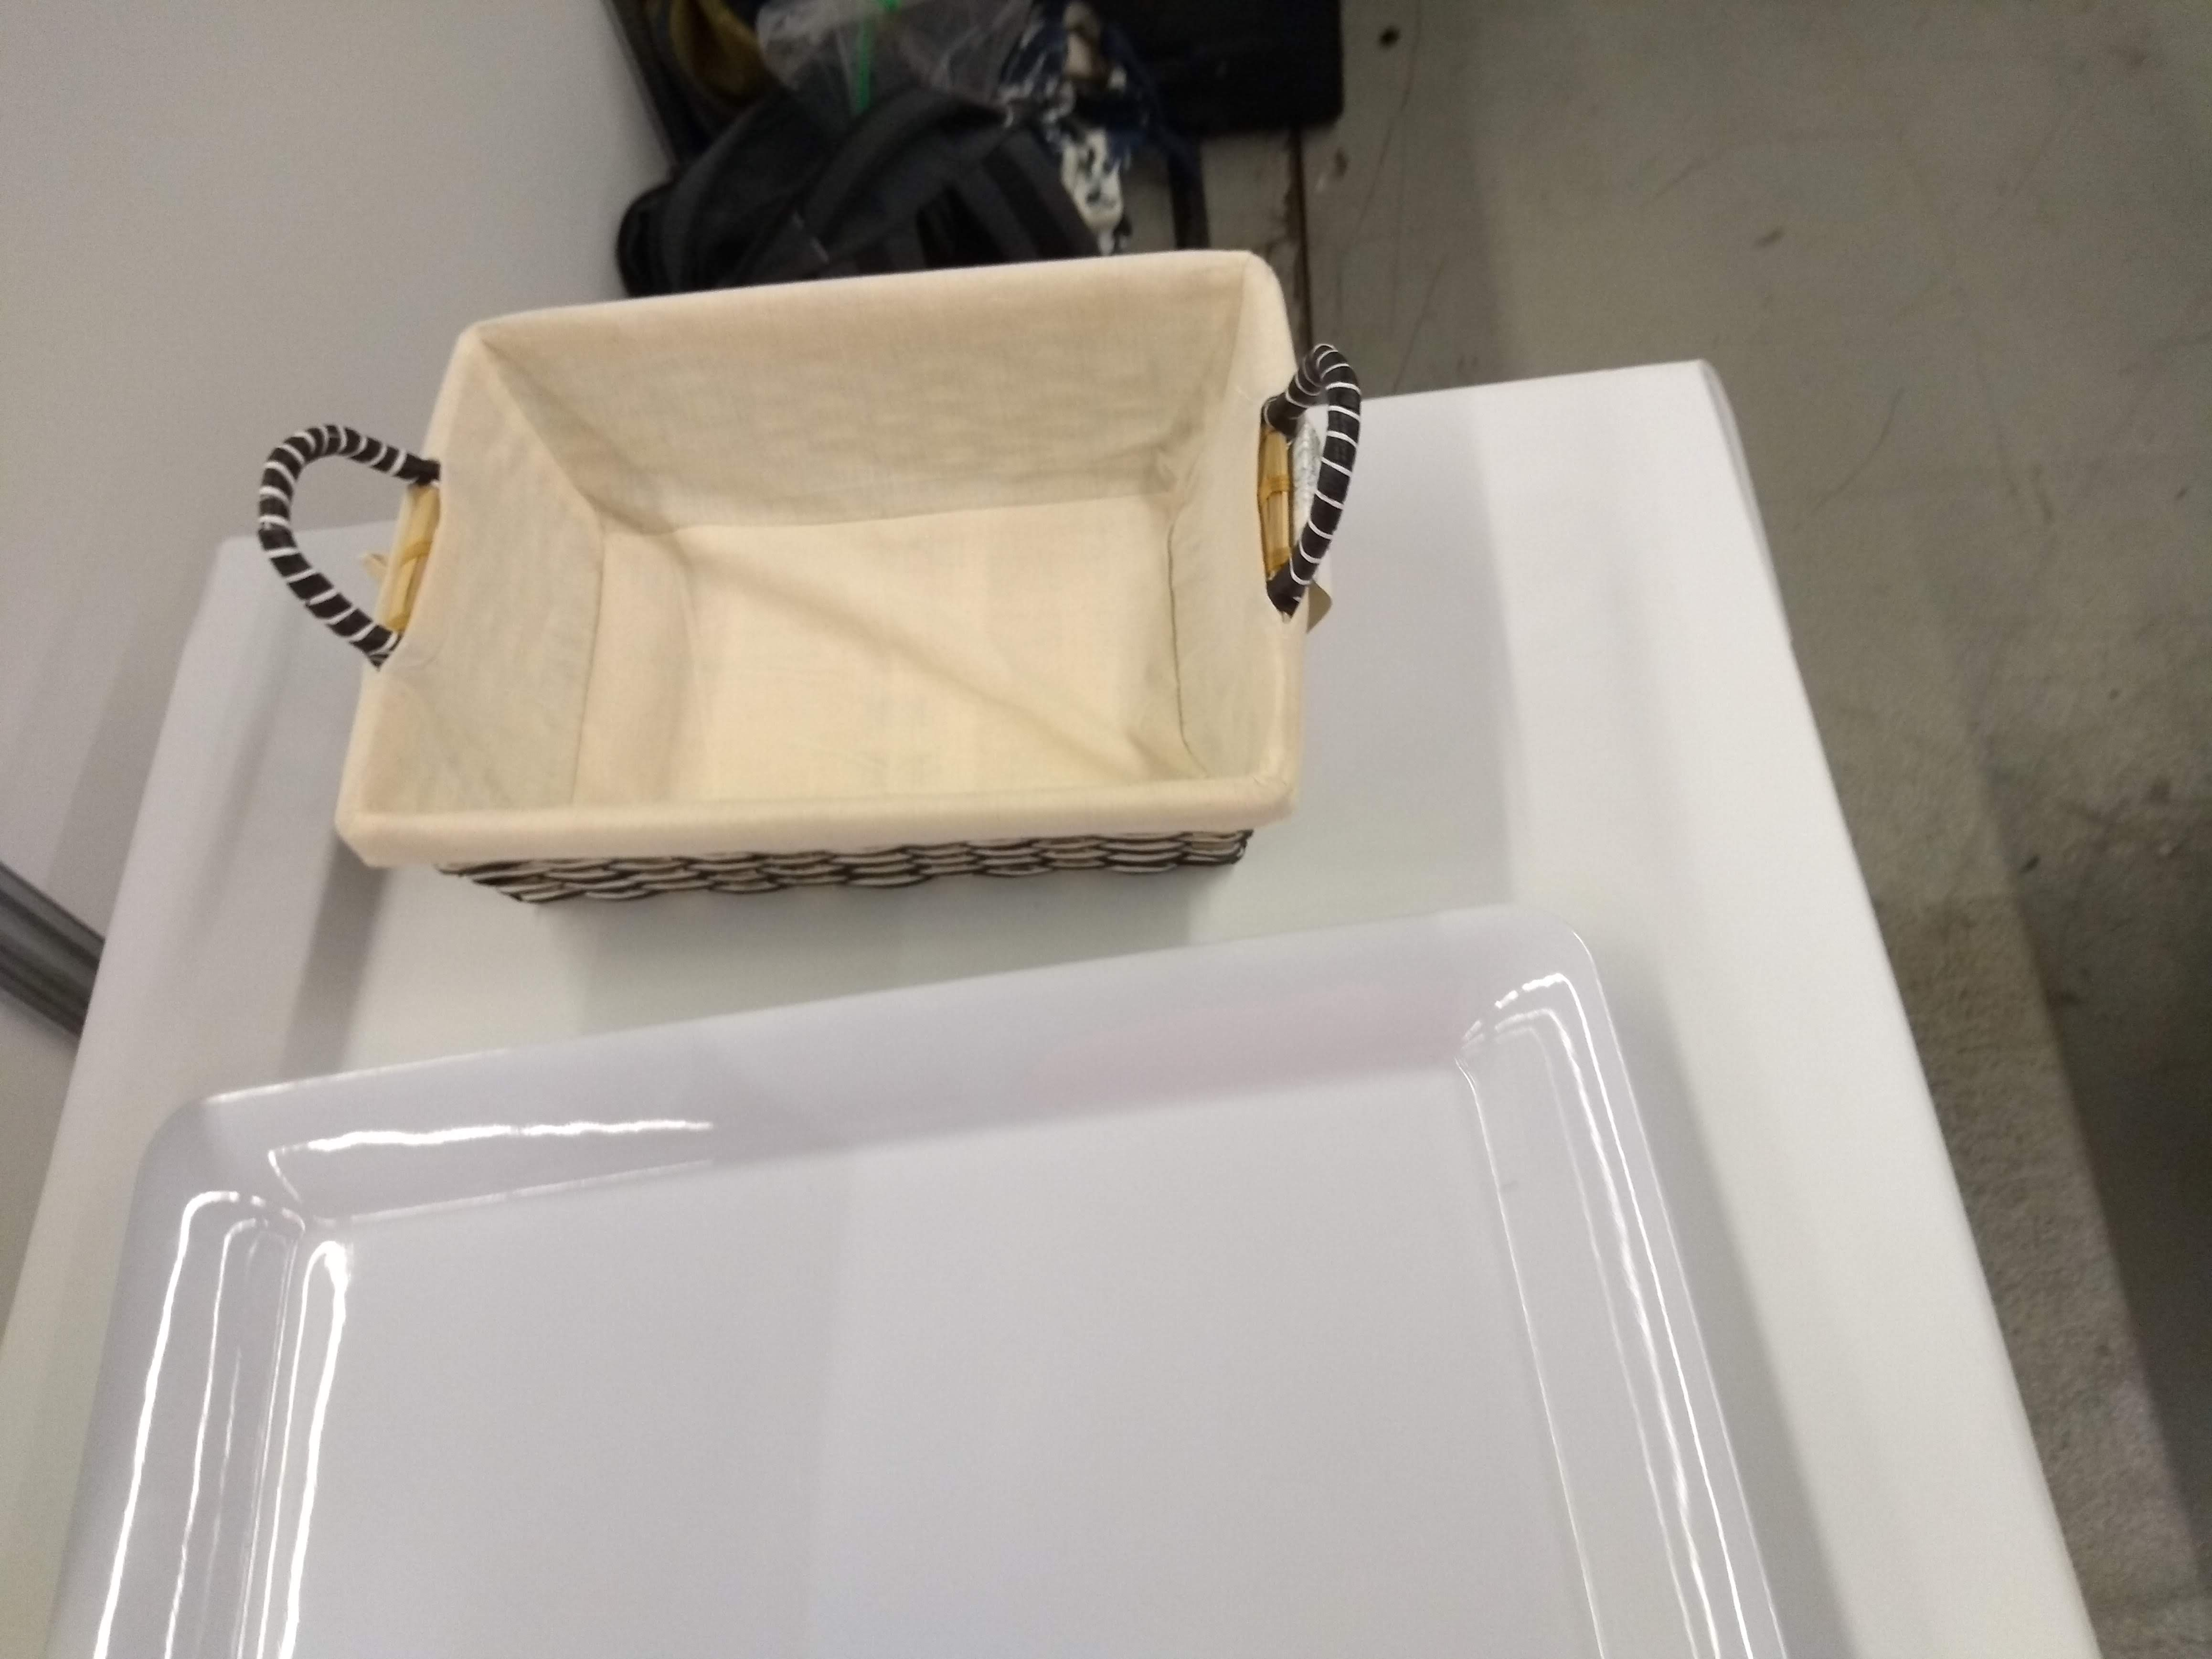basket: (261, 242, 1374, 873)
tray: (37, 894, 1801, 1659)
